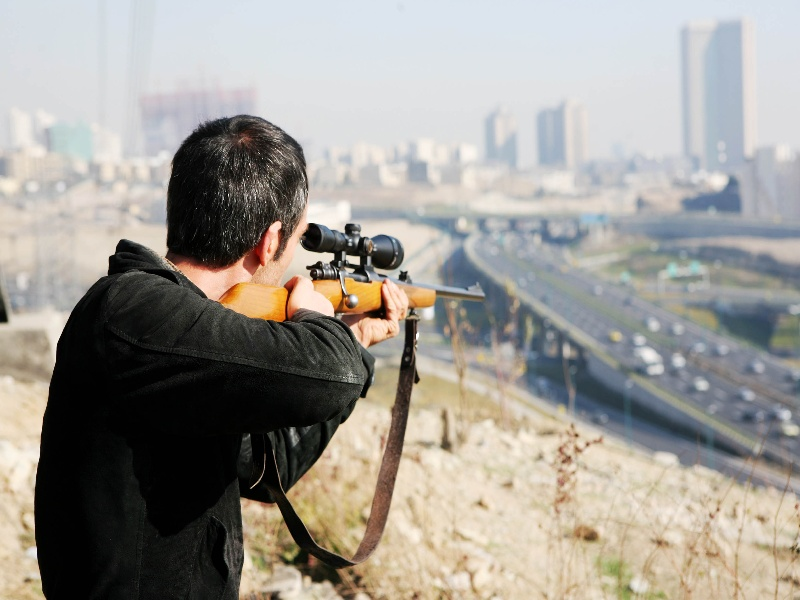person: (34, 116, 407, 600)
weapon: (217, 223, 486, 322)
